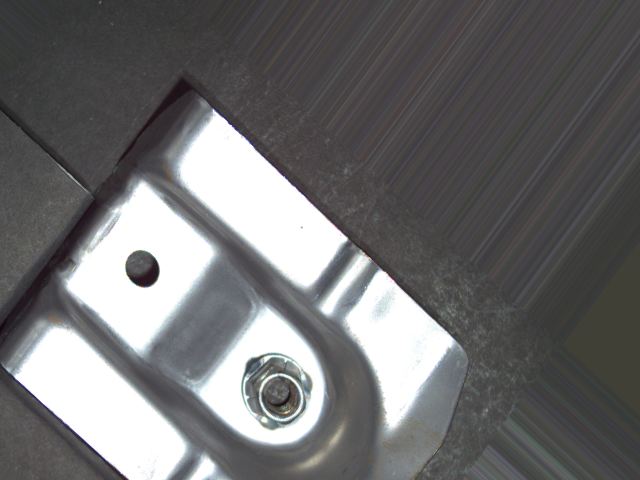good: (238, 347, 315, 433)
